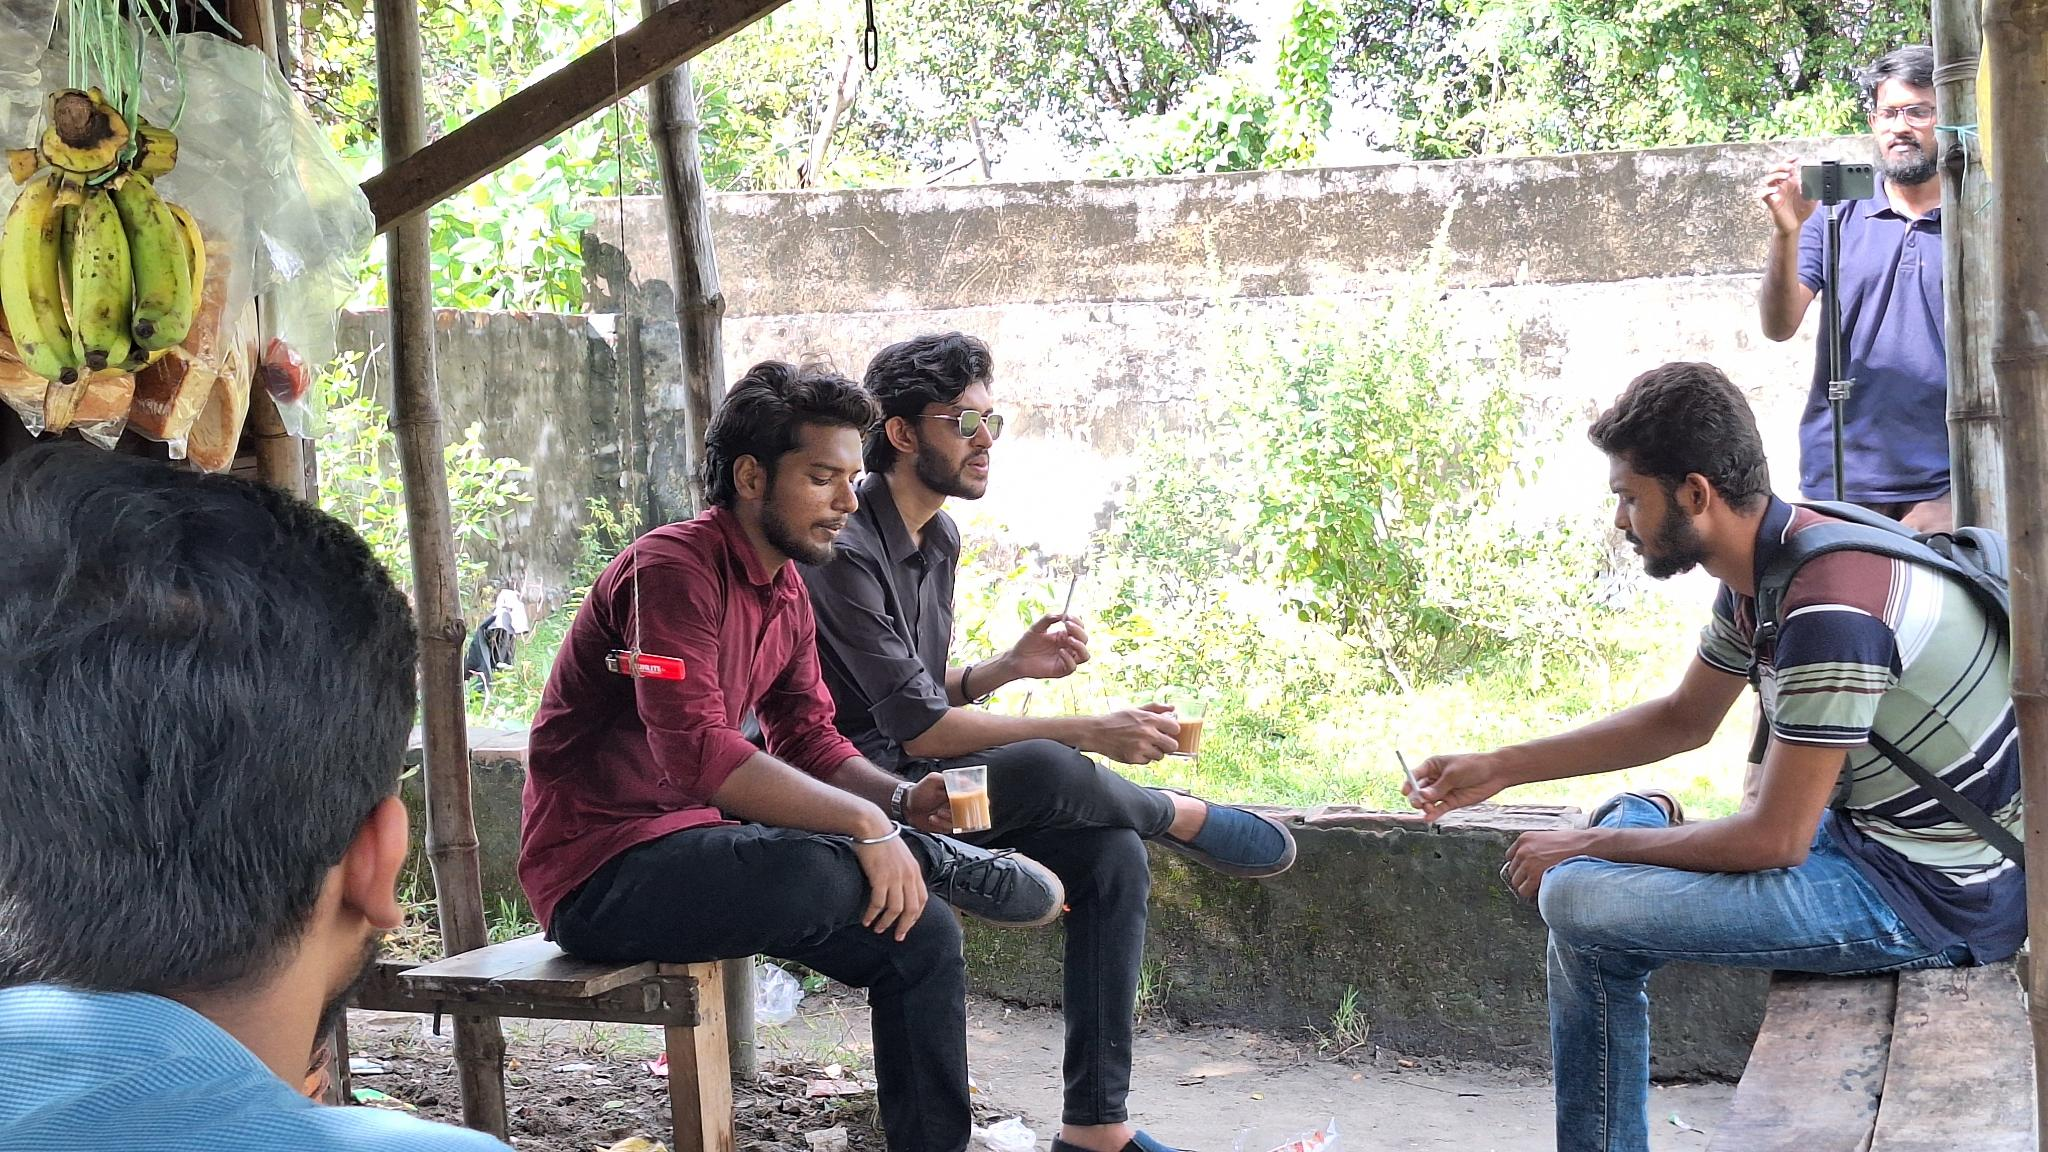cigarette: (1393, 745, 1431, 809), (1056, 571, 1079, 629)
nonSmoker: (511, 357, 1047, 1152), (0, 440, 533, 1152), (1755, 41, 2002, 539)
smoker: (1385, 352, 2025, 1152), (823, 328, 1300, 1152)
